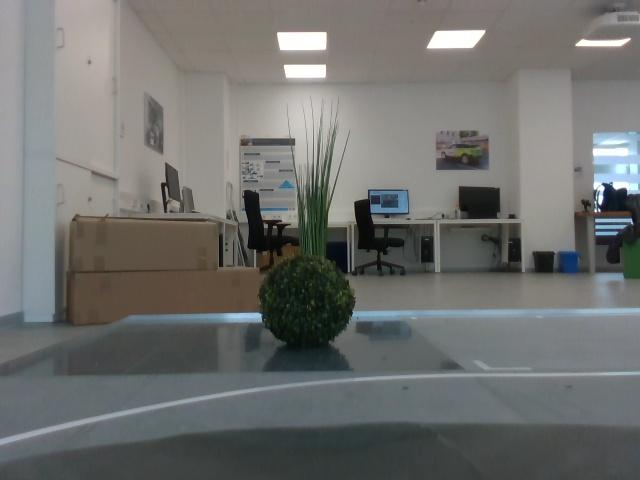potted plant: (286, 102, 355, 257), (254, 257, 357, 353)
